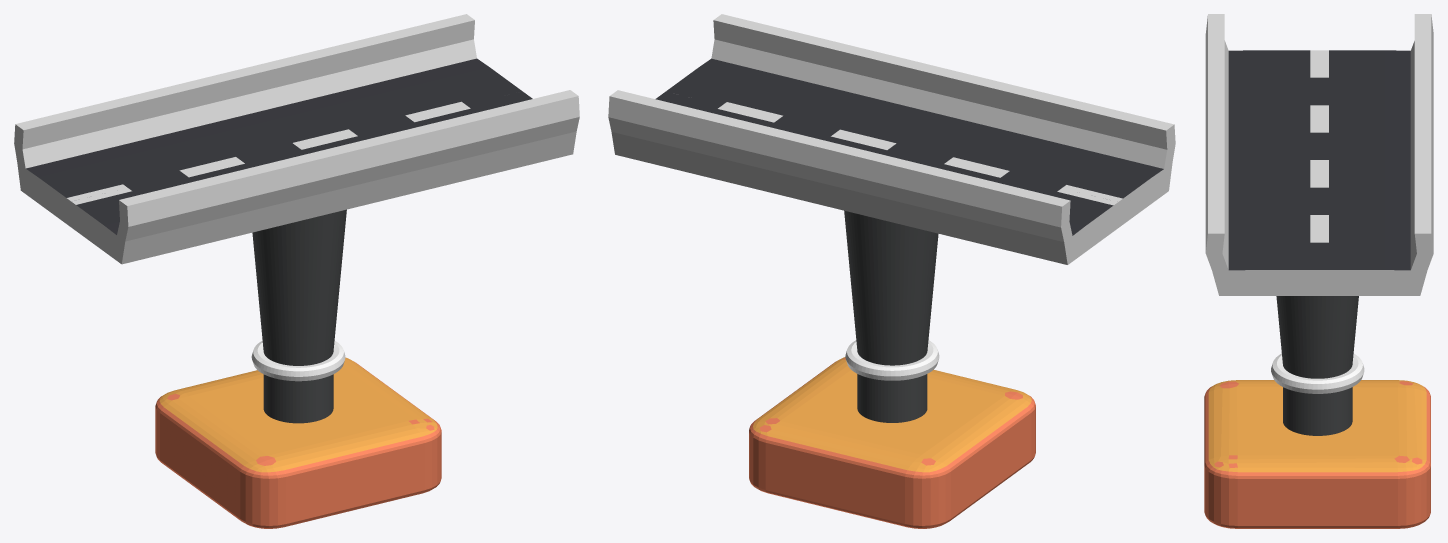
File: Road.fbx
3 views of the same model, side by side, from view 1: azimuth 30°, elevation 25°; view 2: azimuth 150°, elevation 25°; view 3: azimuth 270°, elevation 25° (orthographic).
Parts seen in each view (by area): view 1: Cube, Cube.001, Cylinder; view 2: Cube, Cube.001, Cylinder; view 3: Cube, Cube.001, Cylinder.
Part boxes in pixels (x1,y1,x2,y2): Cube: (14,14,579,264); Cube.001: (155,357,441,528); Cylinder: (251,209,346,423); Cube: (608,14,1175,264); Cube.001: (749,357,1035,528); Cylinder: (844,210,939,422); Cube: (1205,14,1433,295); Cube.001: (1204,380,1430,528); Cylinder: (1271,296,1364,435).
Size of the model in its own units: 1481 by 1144 by 654.
